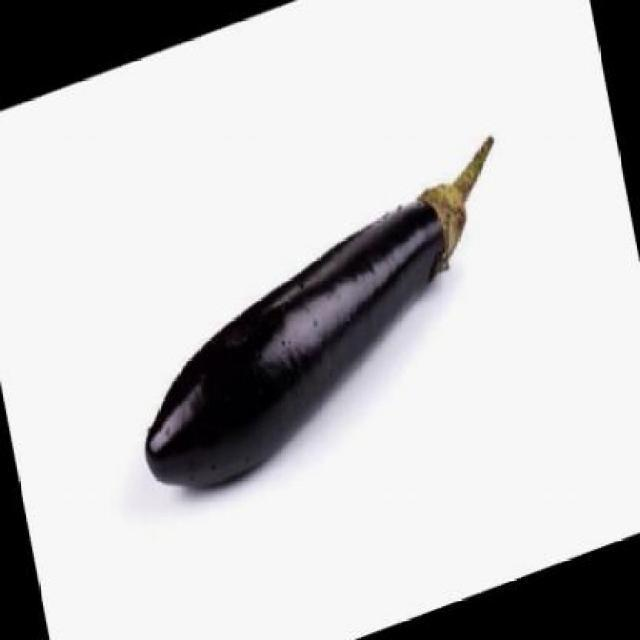eggplant: (110, 130, 539, 508)
